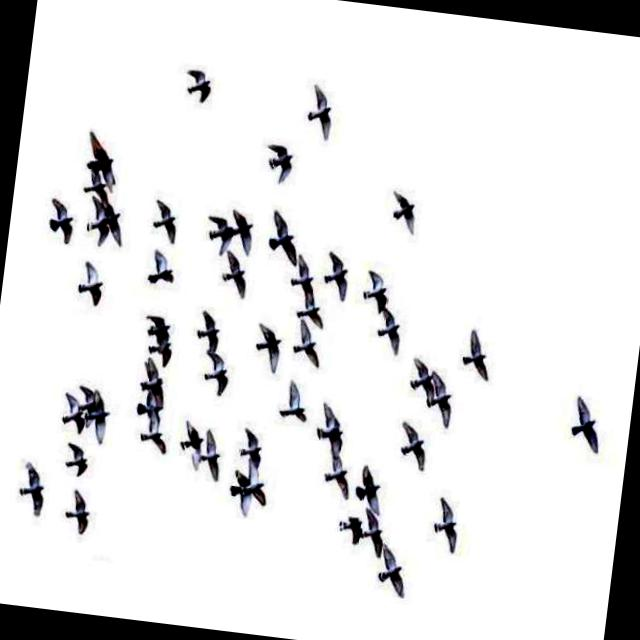bird: (384, 179, 430, 236), (299, 82, 344, 140), (567, 394, 608, 452), (57, 482, 96, 536), (460, 330, 500, 380), (190, 304, 230, 354), (12, 462, 48, 517), (313, 403, 349, 457), (375, 548, 411, 602), (394, 424, 432, 474), (266, 212, 302, 264), (430, 497, 463, 552), (86, 134, 122, 184), (42, 198, 78, 248), (258, 142, 298, 186), (252, 322, 286, 372), (218, 253, 254, 300), (352, 466, 390, 510), (88, 384, 116, 443), (290, 322, 322, 372), (275, 381, 312, 424), (74, 260, 107, 308), (200, 213, 237, 254), (407, 360, 437, 410), (358, 508, 386, 560), (180, 68, 219, 105), (231, 206, 261, 254), (200, 354, 234, 396), (198, 427, 226, 478), (428, 374, 455, 426), (361, 266, 391, 312), (294, 294, 332, 330), (288, 256, 322, 296), (236, 429, 272, 466), (320, 456, 352, 496), (136, 361, 168, 401), (144, 250, 178, 286), (150, 199, 180, 239), (224, 472, 250, 516), (324, 252, 354, 290), (244, 468, 273, 506), (83, 202, 109, 243), (64, 442, 93, 478), (376, 313, 402, 352), (61, 393, 85, 435), (336, 510, 365, 544), (135, 394, 169, 422), (140, 417, 168, 450), (178, 422, 206, 454), (145, 316, 171, 349), (104, 200, 125, 240), (79, 172, 109, 197), (79, 383, 97, 413), (150, 342, 171, 362)
